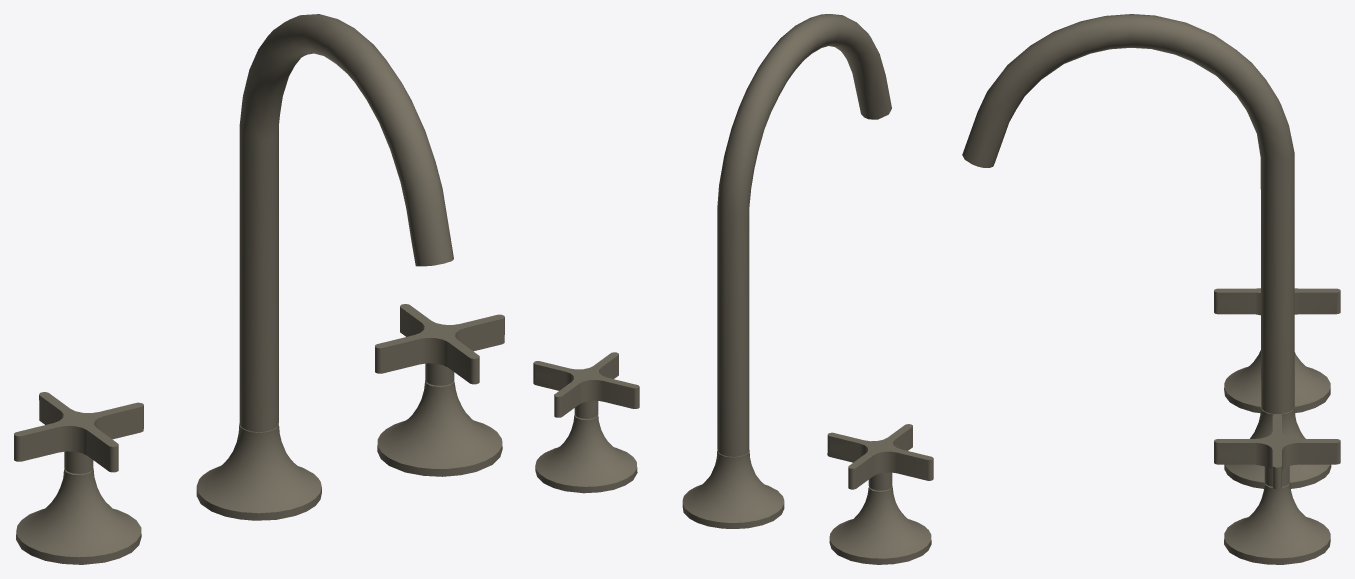
The picture shows the model from 3 angles, left to right: view 1: azimuth 30°, elevation 25°; view 2: azimuth 150°, elevation 25°; view 3: azimuth 270°, elevation 25°; orthographic projection. The views are drawn at different scales.
Parts seen in each view (by area): view 1: L_5d4efa89_779e_4f6f_84eb_1e48ffb96715_I9, L_afde61bf_8ec3_4fd9_a7a9_9b6805504fb0_I11, L_1b0b832a_fa15_4d4d_977d_92f8a5e654a8_I3, L_0fe7bce2_7336_4871_ab28_3f3655b94761_I1, L_2fb8ef28_9316_47a4_a78b_da6c678b31c1_I7, L_2ce8817a_d13c_4654_bd4b_d96b92949cfb_I6; view 2: L_5d4efa89_779e_4f6f_84eb_1e48ffb96715_I9, L_afde61bf_8ec3_4fd9_a7a9_9b6805504fb0_I11, L_0fe7bce2_7336_4871_ab28_3f3655b94761_I1, L_1b0b832a_fa15_4d4d_977d_92f8a5e654a8_I3, L_2ce8817a_d13c_4654_bd4b_d96b92949cfb_I6, L_2fb8ef28_9316_47a4_a78b_da6c678b31c1_I7; view 3: L_5d4efa89_779e_4f6f_84eb_1e48ffb96715_I9, L_1b0b832a_fa15_4d4d_977d_92f8a5e654a8_I3, L_2fb8ef28_9316_47a4_a78b_da6c678b31c1_I7, L_0fe7bce2_7336_4871_ab28_3f3655b94761_I1, L_2ce8817a_d13c_4654_bd4b_d96b92949cfb_I6, L_afde61bf_8ec3_4fd9_a7a9_9b6805504fb0_I11.
Boxes of the visible parts, left/top/right/bottom form: L_5d4efa89_779e_4f6f_84eb_1e48ffb96715_I9: left=239, top=14, right=453, bottom=431; L_afde61bf_8ec3_4fd9_a7a9_9b6805504fb0_I11: left=196, top=423, right=321, bottom=520; L_1b0b832a_fa15_4d4d_977d_92f8a5e654a8_I3: left=377, top=380, right=502, bottom=476; L_0fe7bce2_7336_4871_ab28_3f3655b94761_I1: left=16, top=468, right=141, bottom=564; L_2fb8ef28_9316_47a4_a78b_da6c678b31c1_I7: left=375, top=304, right=504, bottom=384; L_2ce8817a_d13c_4654_bd4b_d96b92949cfb_I6: left=14, top=392, right=143, bottom=472; L_5d4efa89_779e_4f6f_84eb_1e48ffb96715_I9: left=717, top=14, right=891, bottom=456; L_afde61bf_8ec3_4fd9_a7a9_9b6805504fb0_I11: left=682, top=450, right=784, bottom=528; L_0fe7bce2_7336_4871_ab28_3f3655b94761_I1: left=829, top=486, right=931, bottom=564; L_1b0b832a_fa15_4d4d_977d_92f8a5e654a8_I3: left=535, top=414, right=637, bottom=493; L_2ce8817a_d13c_4654_bd4b_d96b92949cfb_I6: left=827, top=424, right=933, bottom=489; L_2fb8ef28_9316_47a4_a78b_da6c678b31c1_I7: left=533, top=352, right=639, bottom=417; L_5d4efa89_779e_4f6f_84eb_1e48ffb96715_I9: left=962, top=14, right=1294, bottom=413; L_1b0b832a_fa15_4d4d_977d_92f8a5e654a8_I3: left=1224, top=482, right=1330, bottom=564; L_2fb8ef28_9316_47a4_a78b_da6c678b31c1_I7: left=1214, top=414, right=1340, bottom=489; L_0fe7bce2_7336_4871_ab28_3f3655b94761_I1: left=1224, top=350, right=1330, bottom=412; L_2ce8817a_d13c_4654_bd4b_d96b92949cfb_I6: left=1214, top=288, right=1340, bottom=315; L_afde61bf_8ec3_4fd9_a7a9_9b6805504fb0_I11: left=1224, top=407, right=1331, bottom=488.
Size of the model in its own units: 0.2712 by 0.2802 by 0.2128.
